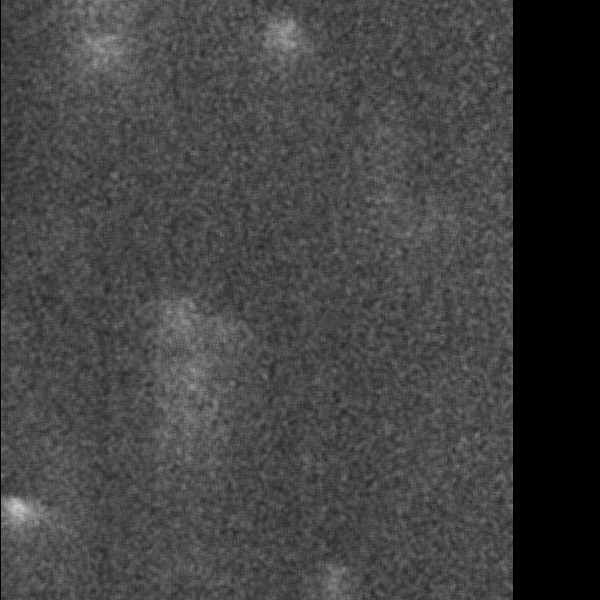spark: (256, 8, 315, 86), (2, 494, 30, 569), (86, 26, 118, 71), (173, 298, 193, 346), (318, 558, 341, 599), (81, 4, 100, 20)
